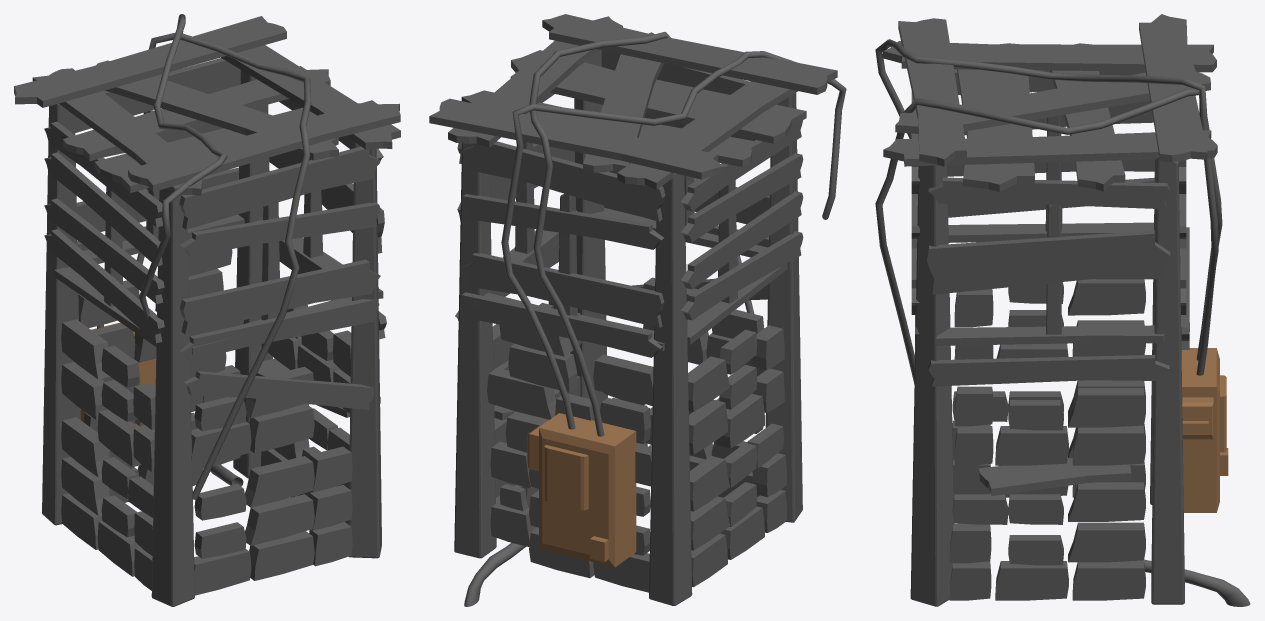
The model's file is TourNV1.fbx.
The picture shows the model from 3 angles, left to right: view 1: azimuth 30°, elevation 25°; view 2: azimuth 150°, elevation 25°; view 3: azimuth 270°, elevation 25°; orthographic projection. The views are drawn at different scales.
Parts seen in each view (by area): view 1: Tour_NV1, Tubes_electriques, Generateur_Recharge_Arme; view 2: Tour_NV1, Generateur_Recharge_Arme, Tubes_electriques; view 3: Tour_NV1, Tubes_electriques, Generateur_Recharge_Arme.
Boxes of the visible parts, x1,y1,x2,y2 form: Tour_NV1: (14,16,400,606); Tubes_electriques: (97,14,311,499); Generateur_Recharge_Arme: (80,322,156,427); Tour_NV1: (429,14,837,605); Generateur_Recharge_Arme: (527,413,636,567); Tubes_electriques: (464,32,846,606); Tour_NV1: (883,14,1217,606); Tubes_electriques: (875,39,1250,606); Generateur_Recharge_Arme: (1181,348,1228,512).
Bounding box in the file's own units: 765 × 1226 × 820.
